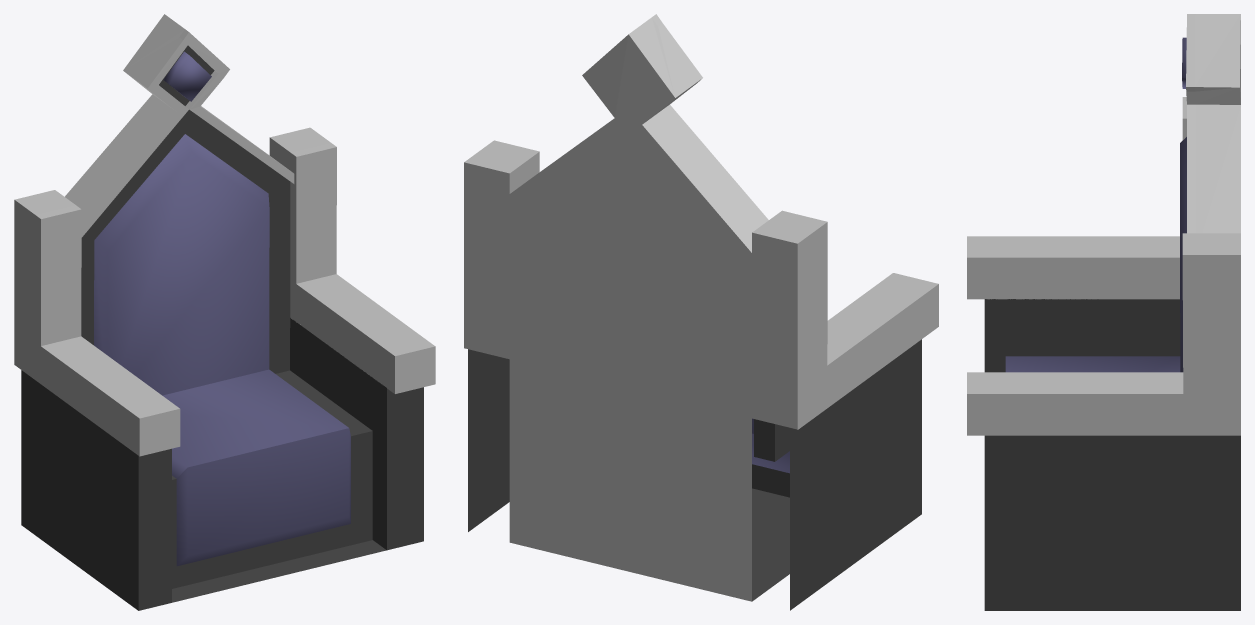
Rendered from Dest_Throne_Throne.FBX.
The picture shows the model from 3 angles, left to right: view 1: azimuth 30°, elevation 25°; view 2: azimuth 150°, elevation 25°; view 3: azimuth 270°, elevation 25°; orthographic projection. The views are drawn at different scales.
Visible parts, largest first — view 1: Object001; view 2: Object001; view 3: Object001.
Part boxes in pixels (x1,y1,x2,y2): Object001: (14,14,435,610); Object001: (464,14,938,610); Object001: (967,14,1240,610).
Size of the model in its own units: 20.68 by 31.83 by 15.16.
